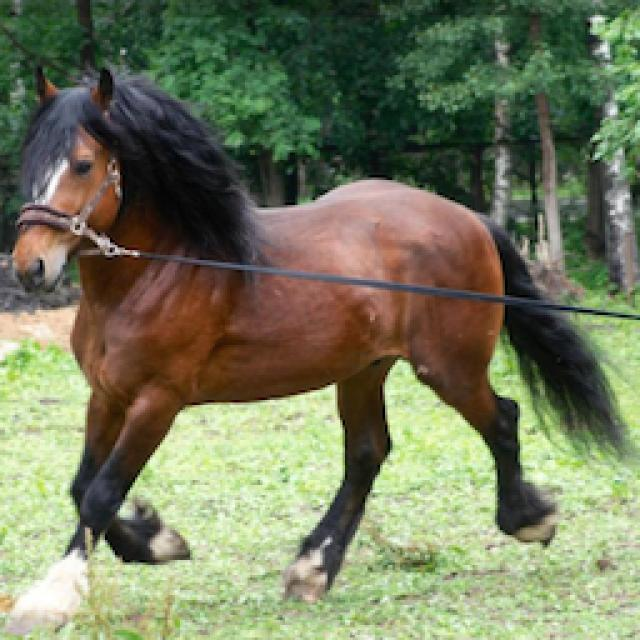Horse: (0, 57, 638, 635)
